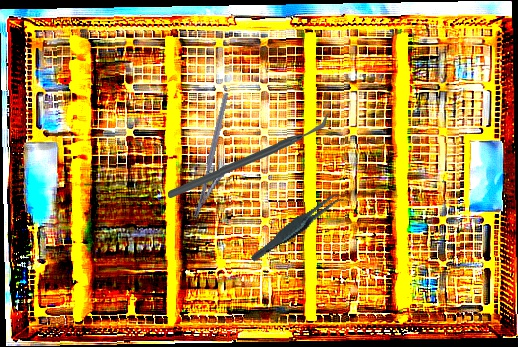Chopper: (166, 113, 332, 199)
Needle Holder: (191, 92, 247, 224)
Tissue Forceps: (240, 190, 356, 263)
